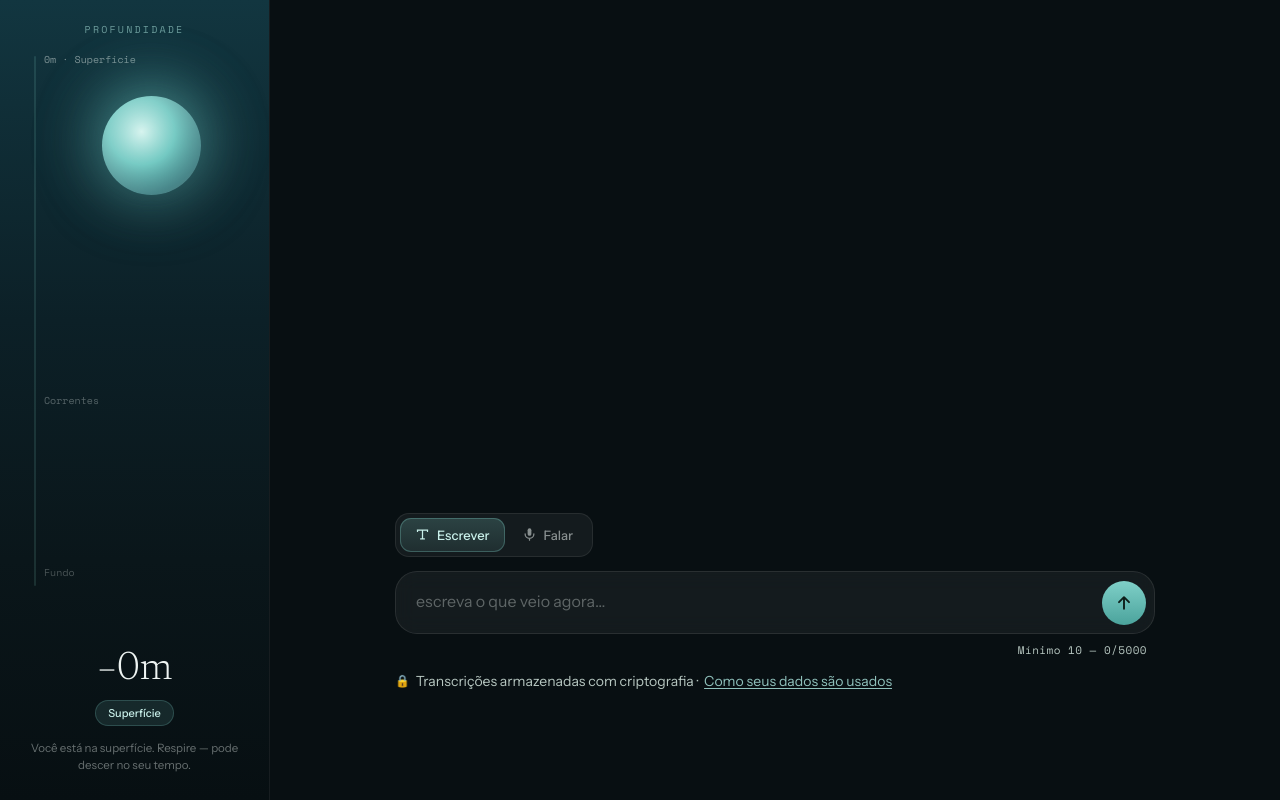
Test case: ChatWindow › não avança o medidor de profundidade quando a resposta é do fluxo de crise
Type "Uma mensagem de crise de teste." into the text box named "Sua mensagem" at (753, 602), box [416,580,1090,625]
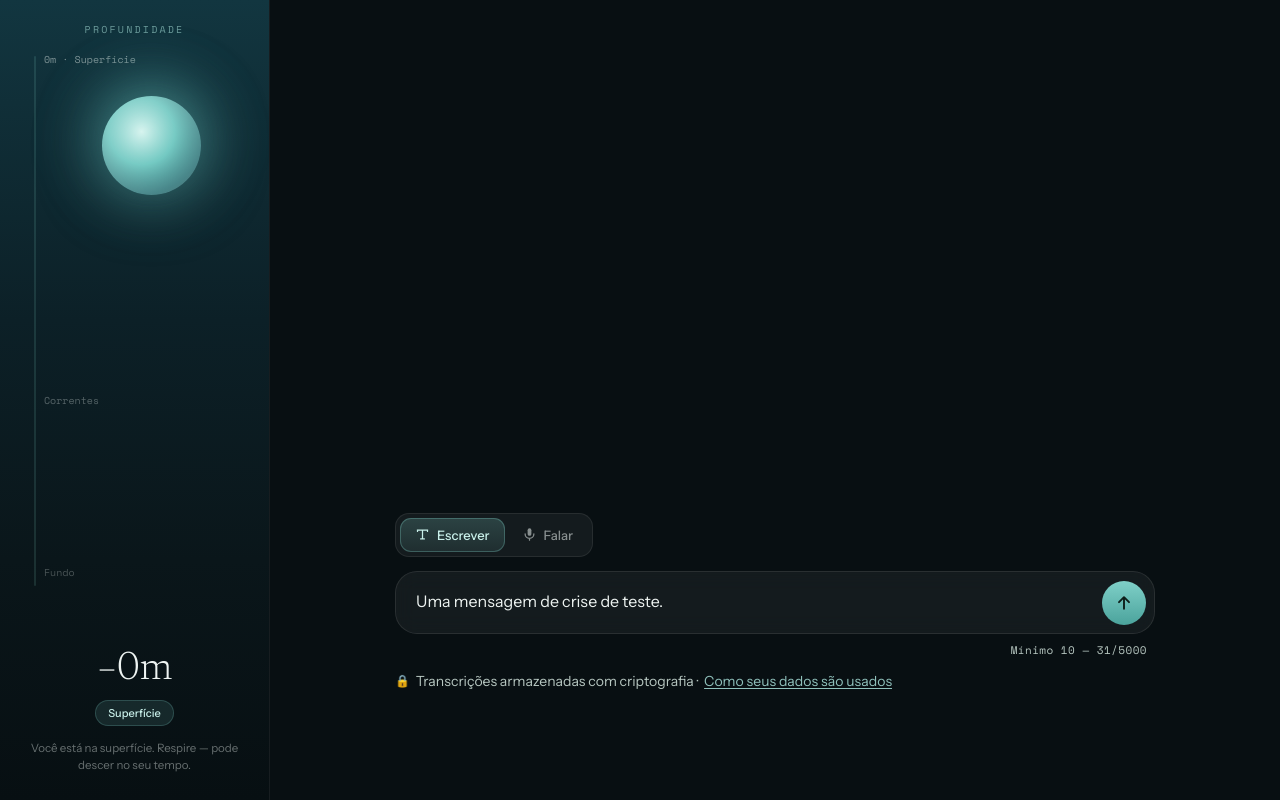
Click the button named "Enviar" at (1124, 603), box [1102,581,1146,625]
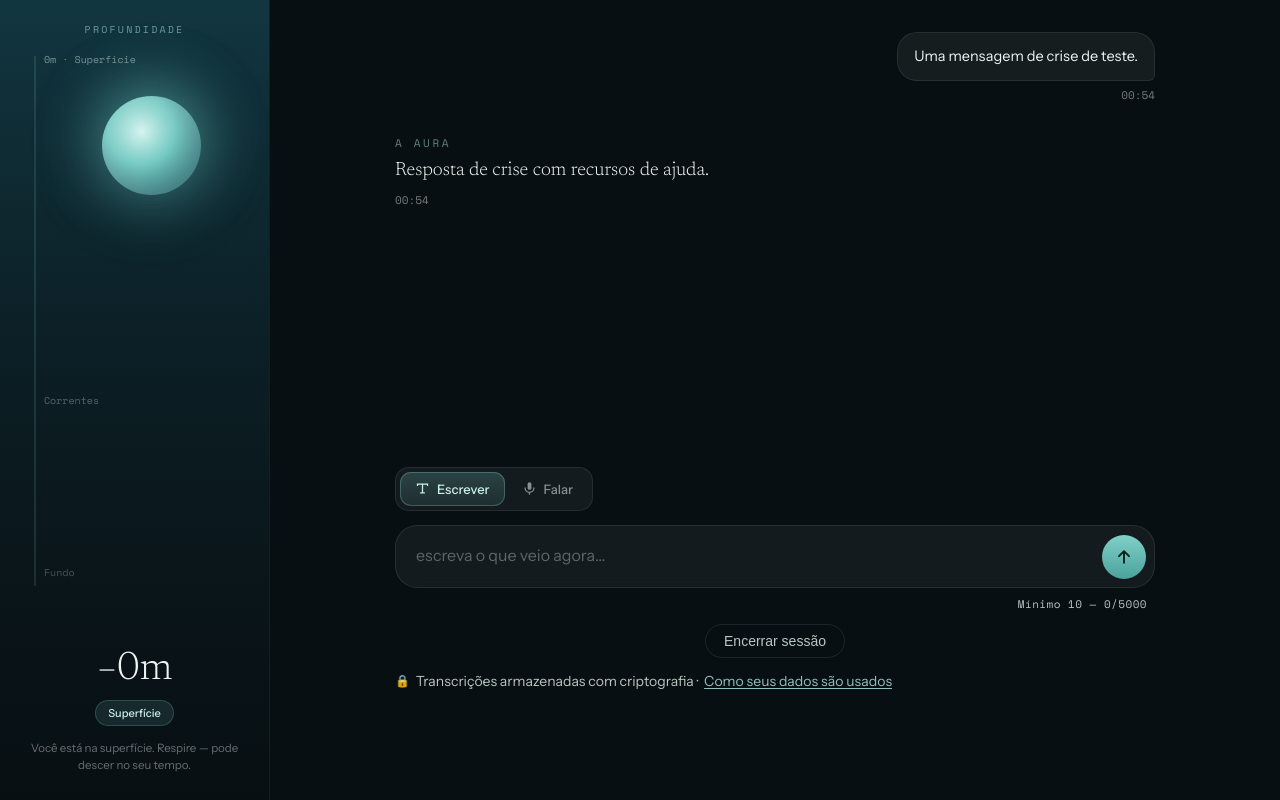
Expected: the text "−0m" is shown, [97,650,172,690]
Expected: the text "Resposta de crise com recursos de ajuda." is shown, [395,161,709,180]
